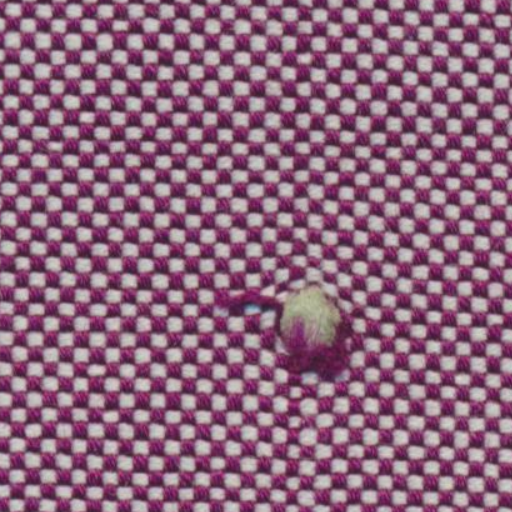MianQiu: (198, 244, 402, 412)
